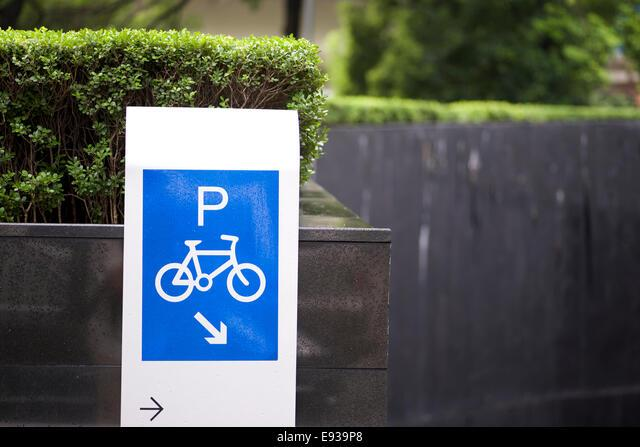Parking Lot Cycle: (132, 129, 289, 381)
